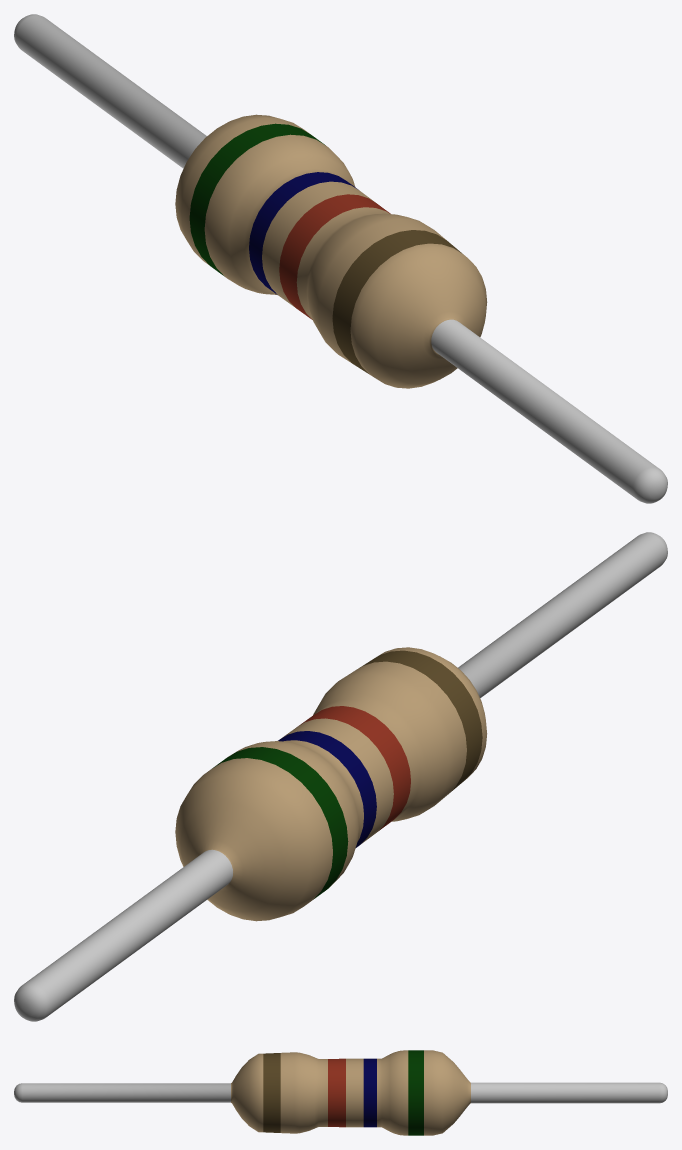
The model's file is Resistor02.fbx.
3 views of the same model, one above another, from view 1: azimuth 30°, elevation 25°; view 2: azimuth 150°, elevation 25°; view 3: azimuth 270°, elevation 25° (orthographic). The views are drawn at different scales.
Visible parts, largest first — view 1: Cylinder.009; view 2: Cylinder.009; view 3: Cylinder.009.
Part boxes in pixels (x1,y1,x2,y2): Cylinder.009: (14,14,667,503); Cylinder.009: (14,532,667,1021); Cylinder.009: (14,1050,667,1135).
Size of the model in its own units: 8.9 by 8.9 by 67.93.
